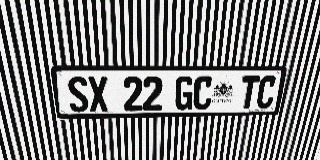2: (123, 76, 143, 111), (143, 76, 162, 111)
C: (255, 76, 278, 109), (193, 76, 213, 110)
G: (174, 76, 195, 110)
S: (66, 76, 90, 112)
T: (238, 76, 260, 109)
X: (87, 76, 109, 112)
